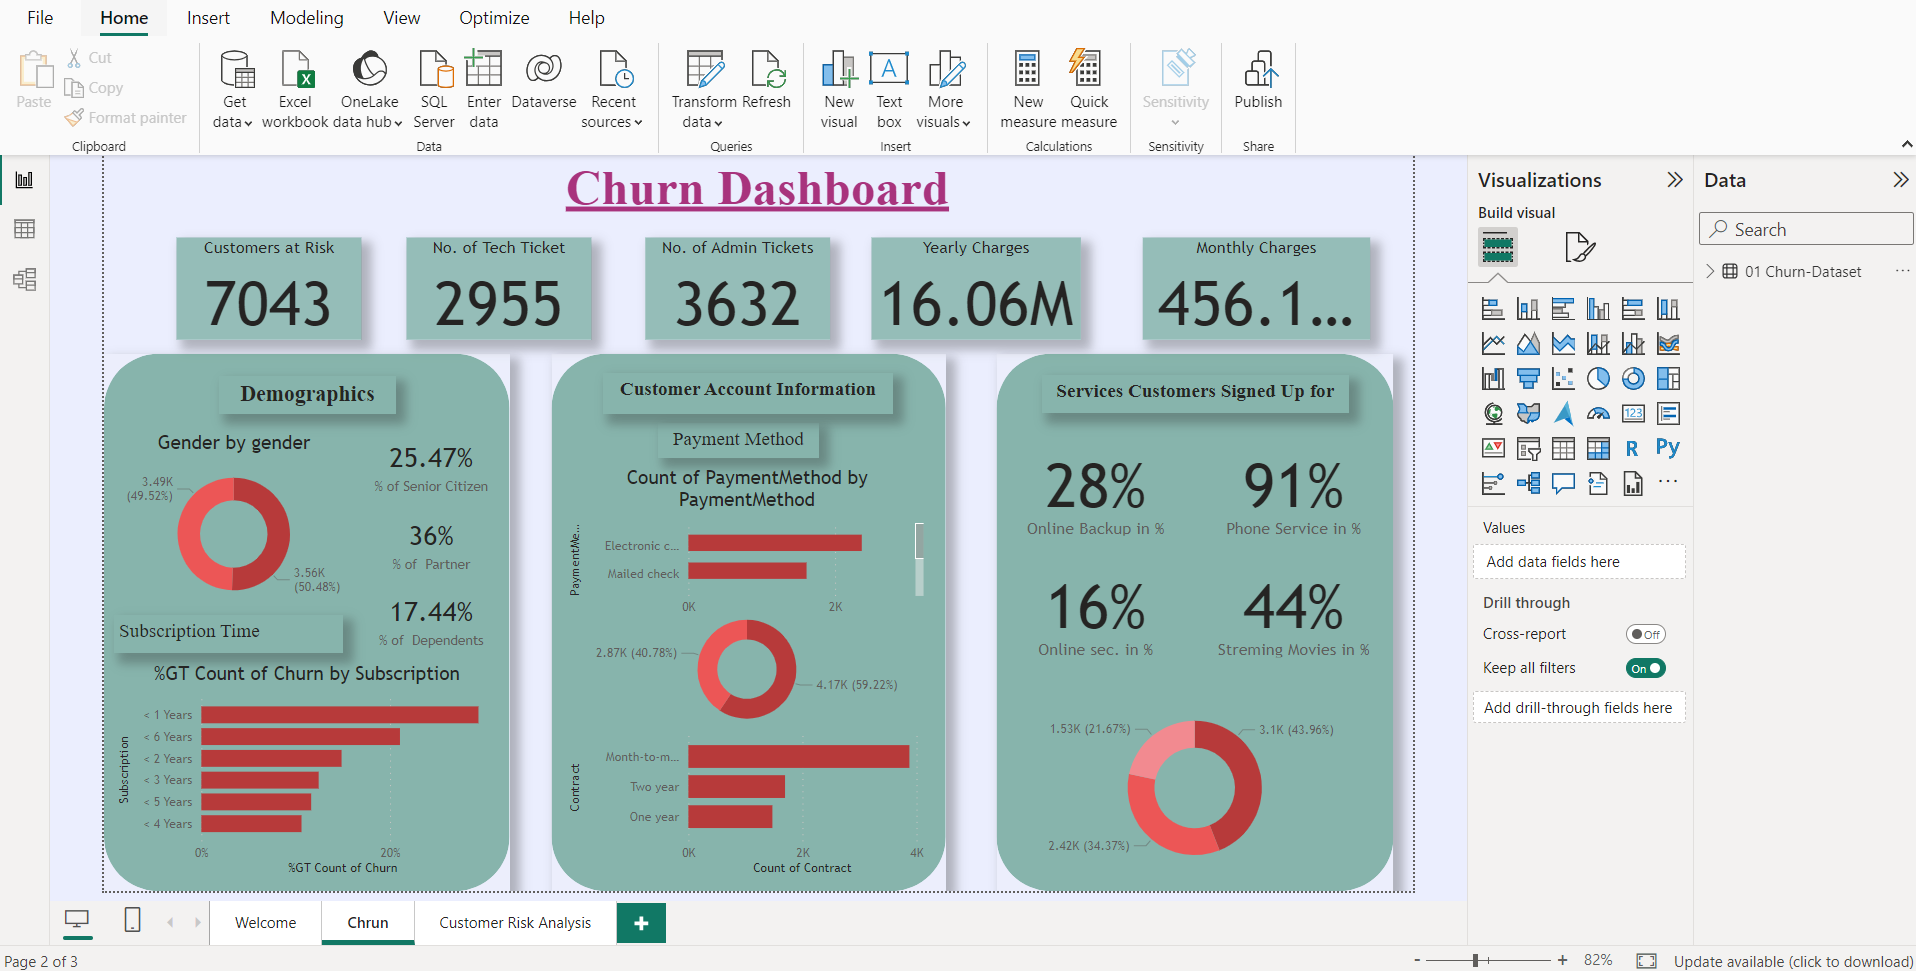

The dashboard page shown, as its layout file describes it:
{"tool":"powerbi","page":{"name":"Chrun","canvas":[1280,720],"ordinal":1},"visuals":[{"type":"textbox","box":[418.5,0,441.9,81],"z":0},{"type":"card","title":"Customers at Risk","fields":{"Values":["CountNonNull(01 Churn-Dataset.customerID)"]},"box":[71.4,81,181.1,100.2],"z":1000},{"type":"card","title":"No. of Tech Ticket","fields":{"Values":["Sum(01 Churn-Dataset.numTechTickets)"]},"box":[296.4,81,181.1,100.2],"z":2000},{"type":"card","title":"No. of Admin Tickets","fields":{"Values":["Sum(01 Churn-Dataset.numAdminTickets)"]},"box":[529.7,81,181.1,100.2],"z":3000},{"type":"card","title":"Yearly Charges","fields":{"Values":["Sum(01 Churn-Dataset.TotalCharges)"]},"box":[750.6,81,204.5,100.2],"z":4000},{"type":"card","title":"Monthly Charges","fields":{"Values":["Sum(01 Churn-Dataset.MonthlyCharges)"]},"box":[1015.4,81,222.3,100.2],"z":5000},{"type":"shape","box":[437.7,194.9,385.6,525.6],"z":6000},{"type":"shape","box":[0,194.9,396.6,525.6],"z":7000},{"type":"shape","box":[872.7,194.9,388.3,525.6],"z":8000},{"type":"textbox","box":[112.5,216.8,172.9,37],"z":9000},{"type":"textbox","box":[487.1,212.7,284,41.2],"z":10000},{"type":"textbox","box":[916.8,215.1,300.7,37.9],"z":11000},{"type":"donutChart","title":" Gender by gender","fields":{"Category":["01 Churn-Dataset.gender"],"Y":["CountNonNull(01 Churn-Dataset.gender)"]},"box":[9.6,270.3,234.6,179.8],"z":12000},{"type":"textbox","box":[9.8,449.8,223.7,37.9],"z":13000},{"type":"clusteredBarChart","fields":{"Category":["01 Churn-Dataset.Subscription"],"Y":["CountNonNull(01 Churn-Dataset.Churn)"]},"box":[9.6,496.7,377.4,212.7],"z":14000},{"type":"card","fields":{"Values":["01 Churn-Dataset.% of Senior Citizen"]},"box":[252.5,270.3,134.5,67.2],"z":15000},{"type":"card","fields":{"Values":["01 Churn-Dataset.% of  Partner"]},"box":[252.5,348.5,134.5,63.1],"z":16000},{"type":"card","fields":{"Values":["01 Churn-Dataset.% of  Dependents"]},"box":[252.5,419.9,134.5,67.2],"z":17000},{"type":"textbox","box":[542,262.1,157.8,34.3],"z":18000},{"type":"clusteredBarChart","fields":{"Category":["01 Churn-Dataset.PaymentMethod"],"Y":["CountNonNull(01 Churn-Dataset.PaymentMethod)"]},"box":[451.1,304.4,355.7,154],"z":19000},{"type":"donutChart","fields":{"Category":["01 Churn-Dataset.PaperlessBilling"],"Y":["CountNonNull(01 Churn-Dataset.PaperlessBilling)"]},"box":[451.1,436.4,355.7,133.2],"z":20000},{"type":"clusteredBarChart","fields":{"Category":["01 Churn-Dataset.Contract"],"Y":["CountNonNull(01 Churn-Dataset.Contract)"]},"box":[451.1,552.5,355.7,156.5],"z":21000},{"type":"donutChart","fields":{"Category":["01 Churn-Dataset.InternetService"],"Y":["CountNonNull(01 Churn-Dataset.InternetService)"]},"box":[885.1,529.7,363.6,179.8],"z":22000},{"type":"card","fields":{"Values":["01 Churn-Dataset.Online Backup in %"]},"box":[885.1,278.6,170.2,98.8],"z":23000},{"type":"card","fields":{"Values":["01 Churn-Dataset.Online sec. in %"]},"box":[885.1,396.6,170.2,100.2],"z":24000},{"type":"card","fields":{"Values":["01 Churn-Dataset.Phone Service in %"]},"box":[1079.9,278.6,168.8,98.8],"z":25000},{"type":"card","fields":{"Values":["01 Churn-Dataset.Streming Movies in %"]},"box":[1079.9,396.6,168.8,100.2],"z":26000}]}

Visuals, with their boxes on the page's 1280x720 design canvas (x1, y1, x2, y2). These are canvas units, not pixel positions in the 1916x971 screenshot, which may show the page scaled, cropped or inside an application window:
textbox: (418,0,860,81)
"Customers at Risk" card: (71,81,252,181)
"No. of Tech Ticket" card: (296,81,478,181)
"No. of Admin Tickets" card: (530,81,711,181)
"Yearly Charges" card: (751,81,955,181)
"Monthly Charges" card: (1015,81,1238,181)
shape: (438,195,823,720)
shape: (0,195,397,720)
shape: (873,195,1261,720)
textbox: (112,217,285,254)
textbox: (487,213,771,254)
textbox: (917,215,1218,253)
" Gender by gender" donutChart: (10,270,244,450)
textbox: (10,450,234,488)
clusteredBarChart - 01 Churn-Dataset.Subscription x CountNonNull(01 Churn-Dataset.Churn): (10,497,387,709)
card - 01 Churn-Dataset.% of Senior Citizen: (252,270,387,338)
card - 01 Churn-Dataset.% of  Partner: (252,348,387,412)
card - 01 Churn-Dataset.% of  Dependents: (252,420,387,487)
textbox: (542,262,700,296)
clusteredBarChart - 01 Churn-Dataset.PaymentMethod x CountNonNull(01 Churn-Dataset.PaymentMethod): (451,304,807,458)
donutChart - 01 Churn-Dataset.PaperlessBilling x CountNonNull(01 Churn-Dataset.PaperlessBilling): (451,436,807,570)
clusteredBarChart - 01 Churn-Dataset.Contract x CountNonNull(01 Churn-Dataset.Contract): (451,552,807,709)
donutChart - 01 Churn-Dataset.InternetService x CountNonNull(01 Churn-Dataset.InternetService): (885,530,1249,710)
card - 01 Churn-Dataset.Online Backup in %: (885,279,1055,377)
card - 01 Churn-Dataset.Online sec. in %: (885,397,1055,497)
card - 01 Churn-Dataset.Phone Service in %: (1080,279,1249,377)
card - 01 Churn-Dataset.Streming Movies in %: (1080,397,1249,497)
